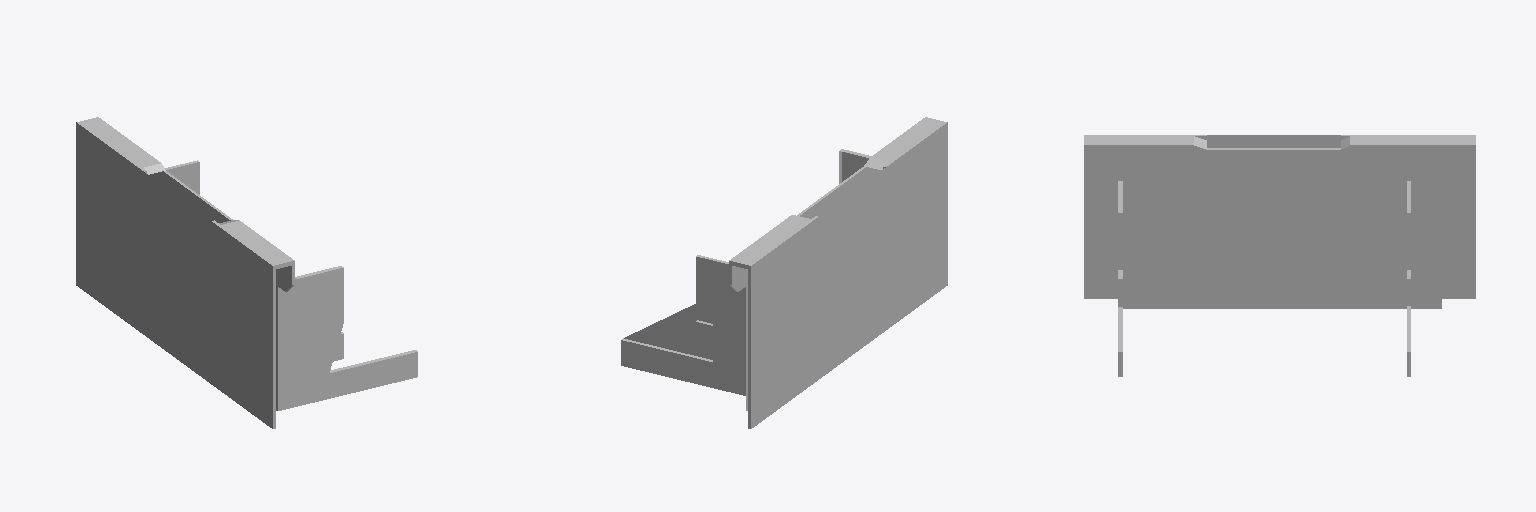
File: Liquid Galaxy Voice Inside v2 Object.obj
3 views of the same model, side by side, from view 1: azimuth 30°, elevation 25°; view 2: azimuth 150°, elevation 25°; view 3: azimuth 270°, elevation 25° (orthographic).
Parts seen in each view (by area): view 1: Mesh1 Model; view 2: Mesh1 Model; view 3: Mesh1 Model.
Boxes of the visible parts, box(x1,y1,x2,y2) form: Mesh1 Model: box(76, 117, 417, 428); Mesh1 Model: box(621, 117, 947, 428); Mesh1 Model: box(1084, 135, 1475, 376).
Bounding box in the file's own units: 66.62 × 63.89 × 139.